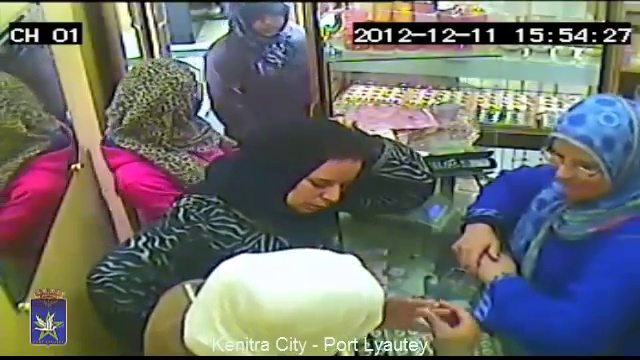face: (299, 160, 356, 217), (548, 144, 598, 197), (249, 9, 289, 41)
